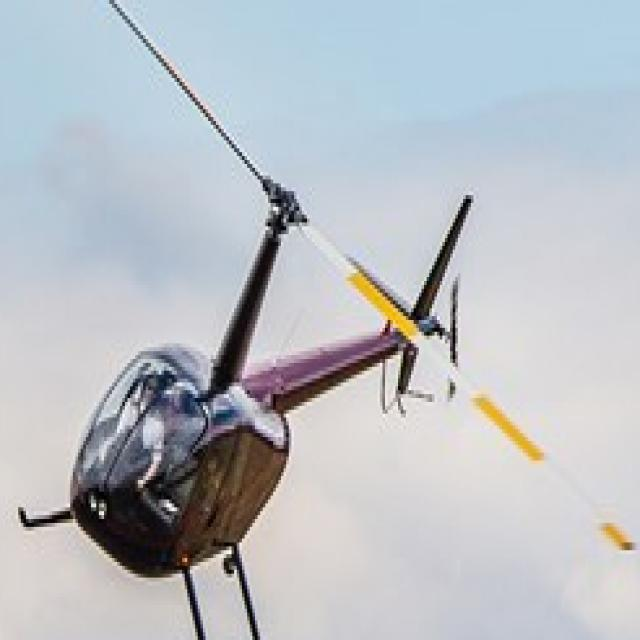helicopter: (17, 1, 636, 640)
